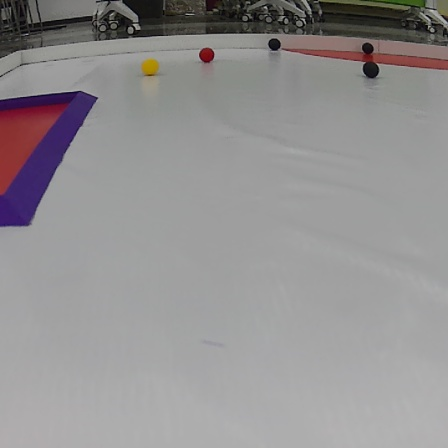black: (360, 62, 383, 83), (266, 38, 283, 51), (361, 41, 377, 54)
red: (193, 48, 218, 63)
red_aim: (0, 84, 96, 241)
red_base: (280, 38, 446, 72)
yellow: (141, 57, 168, 73)
